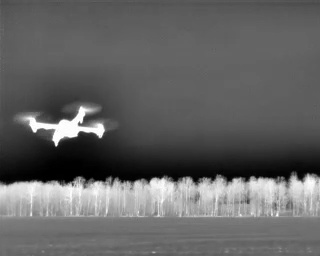DRONE: (17, 96, 127, 155)
